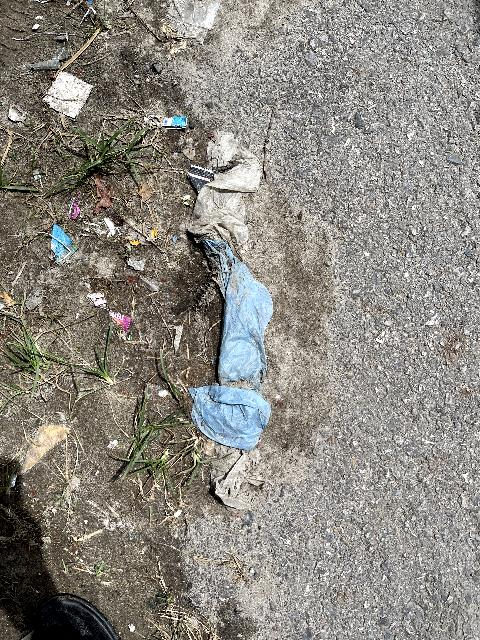polythene: (190, 235, 313, 447)
